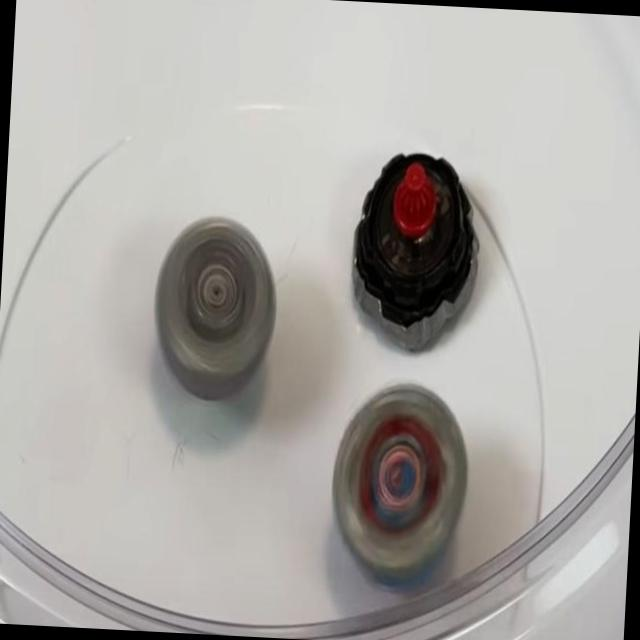Beyblade: (343, 147, 483, 356), (328, 382, 470, 588), (150, 214, 284, 406)
